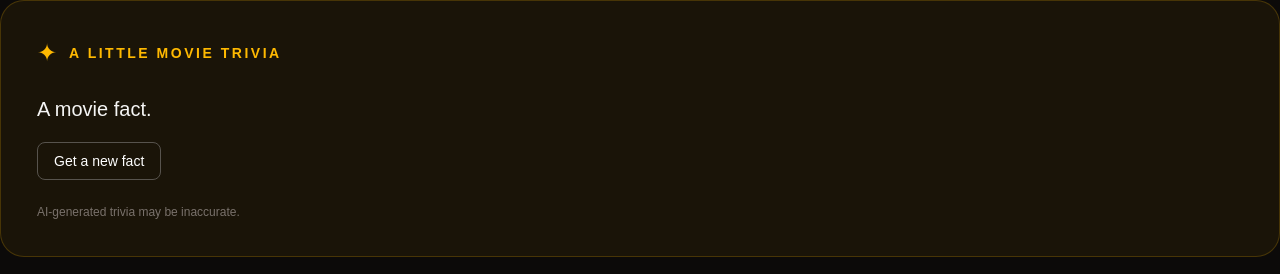
it: reuses a fresh fact after reload and bypasses it for an explicit new fact
Expected: the text "A movie fact." is shown, x1=37 y1=98 x2=152 y2=120
Step 1. Click the button "Get a new fact" → (99, 160), box x1=37 y1=142 x2=161 y2=180
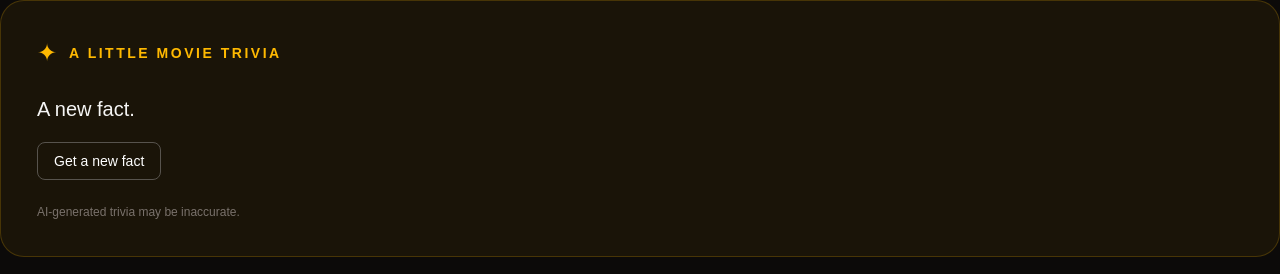
Now the text "A new fact." is shown, box x1=37 y1=98 x2=135 y2=120
